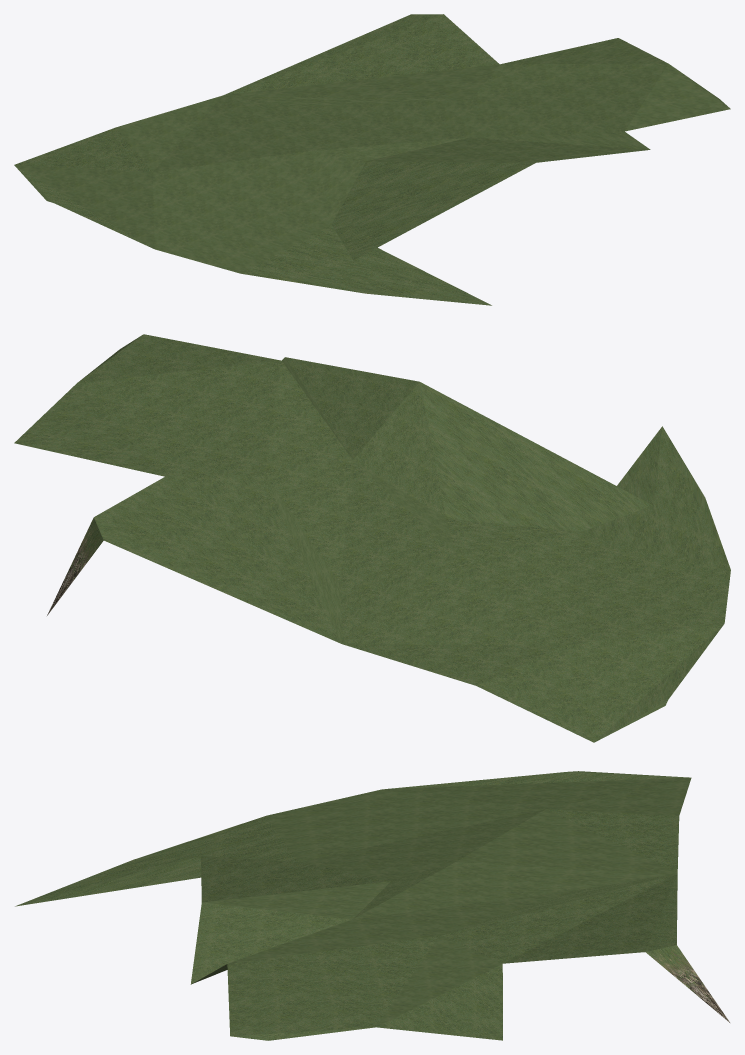
The model's file is LODa_carisle_mid_landmass_01_03.fbx.
3 views of the same model, one above another, from view 1: azimuth 30°, elevation 25°; view 2: azimuth 150°, elevation 25°; view 3: azimuth 270°, elevation 25° (orthographic). The views are drawn at different scales.
Parts seen in each view (by area): view 1: LODa_carisle_mid_landmass_01_03; view 2: LODa_carisle_mid_landmass_01_03; view 3: LODa_carisle_mid_landmass_01_03.
Boxes of the visible parts, left/top/right/bottom form: LODa_carisle_mid_landmass_01_03: left=14, top=14, right=730, bottom=305; LODa_carisle_mid_landmass_01_03: left=14, top=334, right=730, bottom=742; LODa_carisle_mid_landmass_01_03: left=15, top=771, right=729, bottom=1040.
Bounding box in the file's own units: 77.99 × 69.1 × 8.73.
